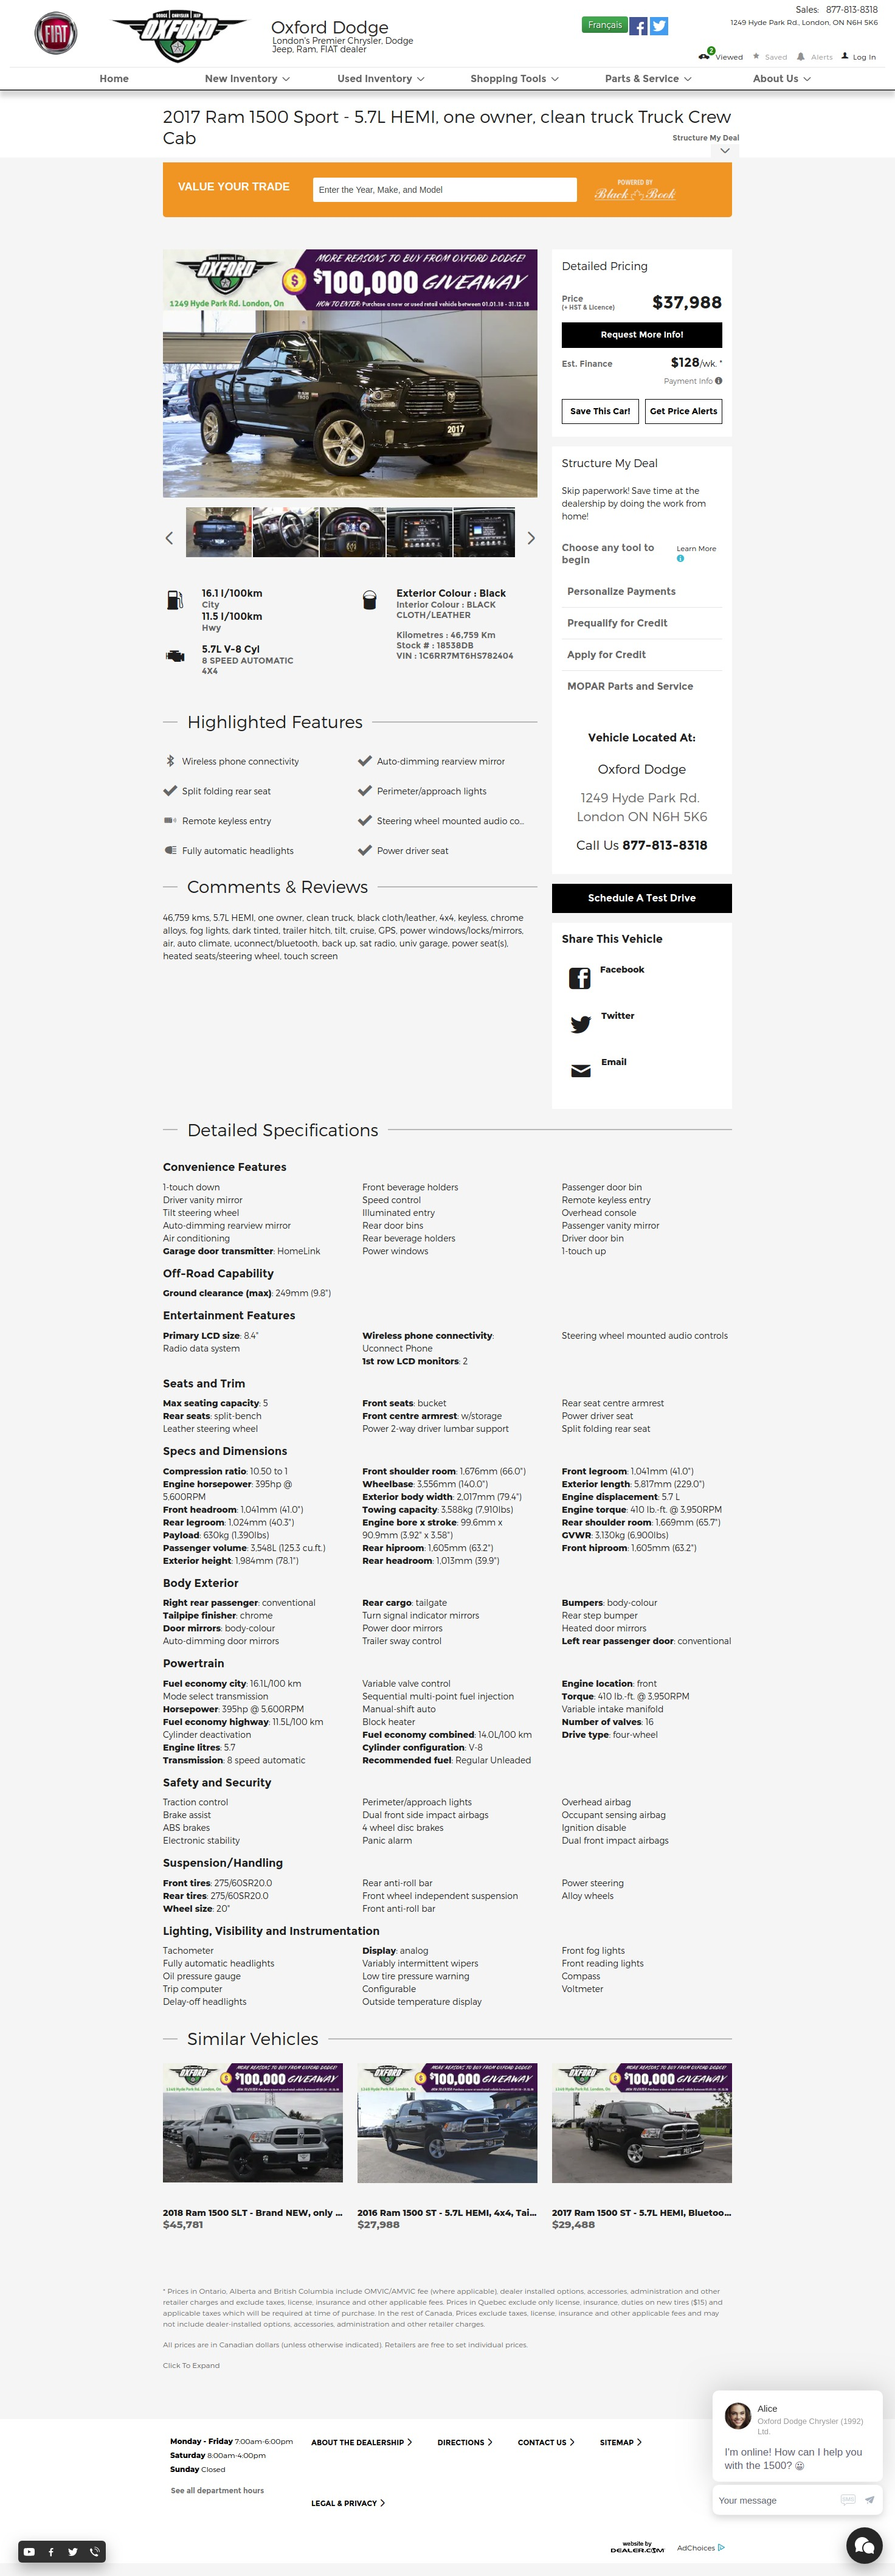car: (527, 532, 535, 545)
